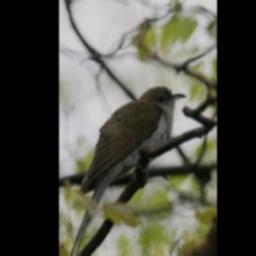Cuckoo: (68, 85, 186, 256)
